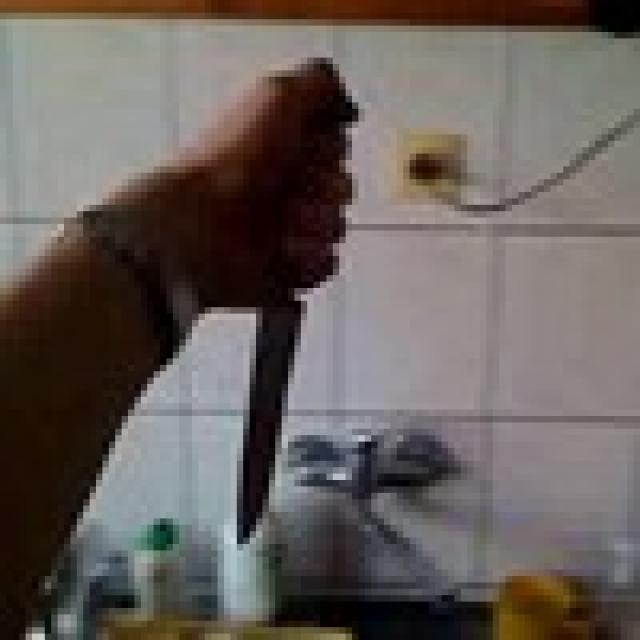weapon: (230, 77, 365, 544)
